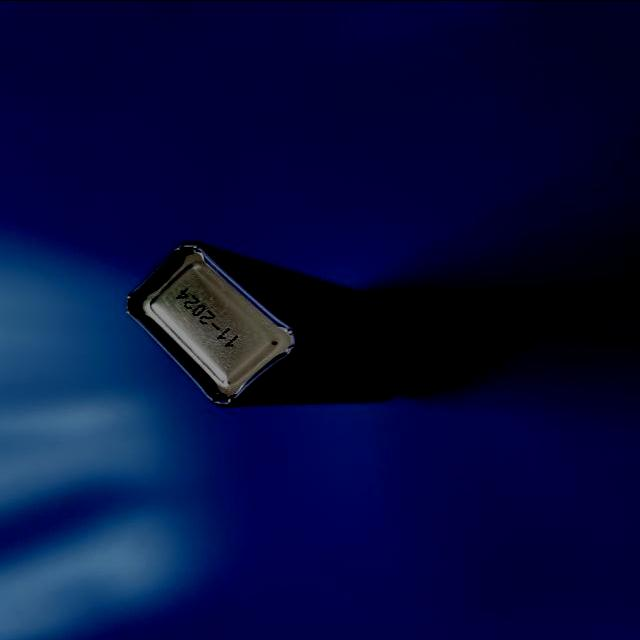9V: (124, 240, 431, 406)
